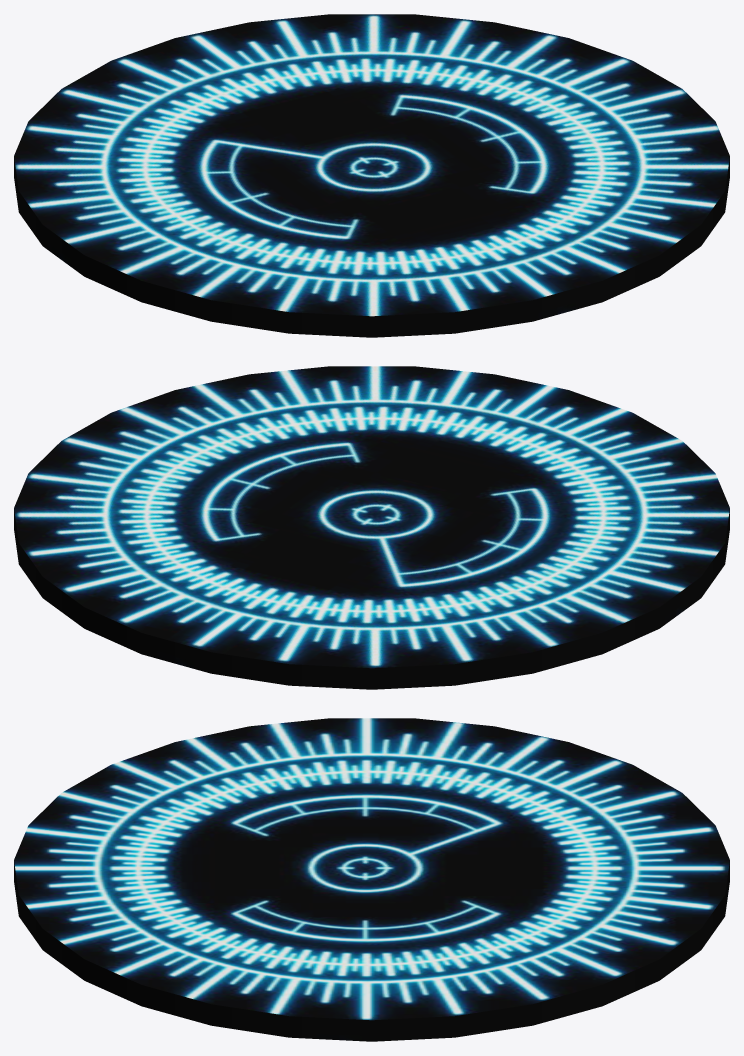
Rendered from target.FBX.
3 views of the same model, one above another, from view 1: azimuth 30°, elevation 25°; view 2: azimuth 150°, elevation 25°; view 3: azimuth 270°, elevation 25° (orthographic).
Parts seen in each view (by area): view 1: Cylinder001; view 2: Cylinder001; view 3: Cylinder001.
Boxes of the visible parts, x1,y1,x2,y2 form: Cylinder001: (14,14,729,337); Cylinder001: (14,366,729,689); Cylinder001: (14,718,729,1041).
Bounding box in the file's own units: 25.98 × 0.8619 × 26.03.
1 material, 1 textured.
